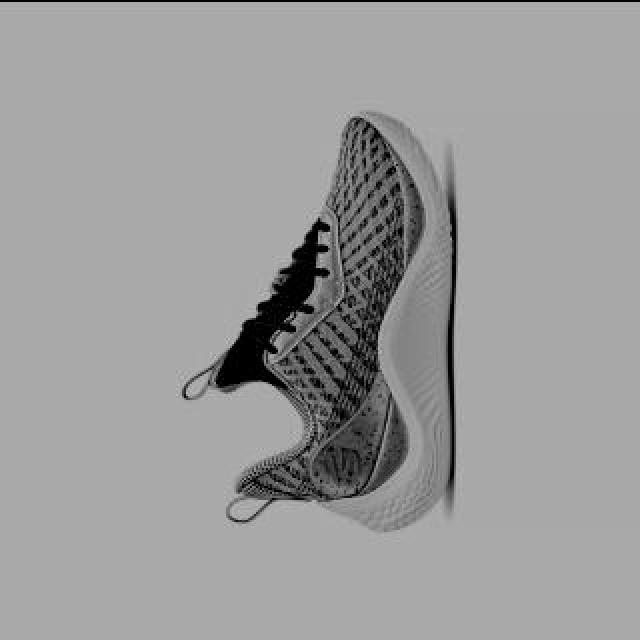shoe: (179, 105, 455, 525)
